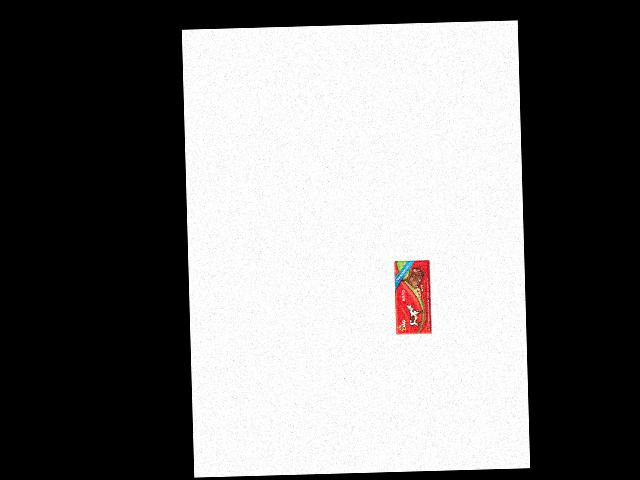chocolate: (393, 260, 430, 337)
